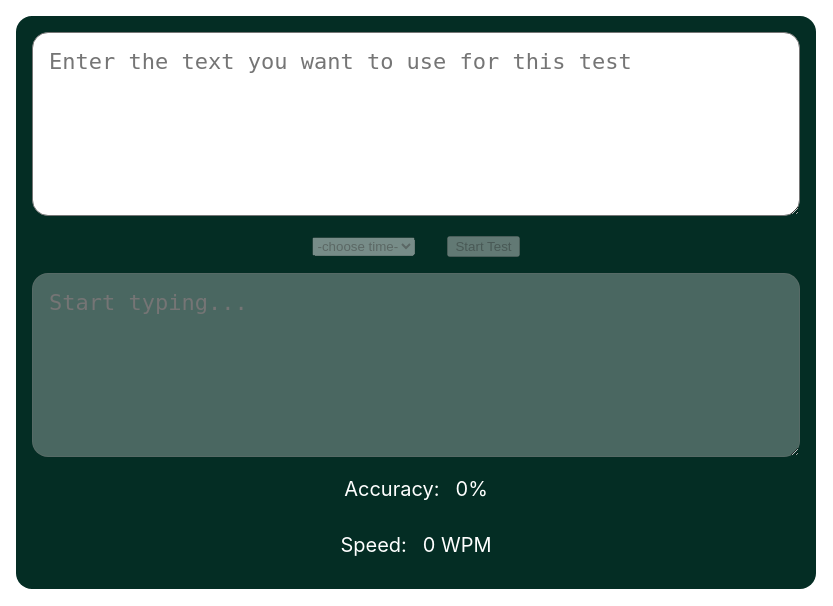
Test: <TypingTutor /> › Start button is enabled if both time and test content are provided
In the text box with placeholder "Enter the text you want to use for this test": point(416, 124) [32, 32, 800, 216], type "Kelv typing tutor"
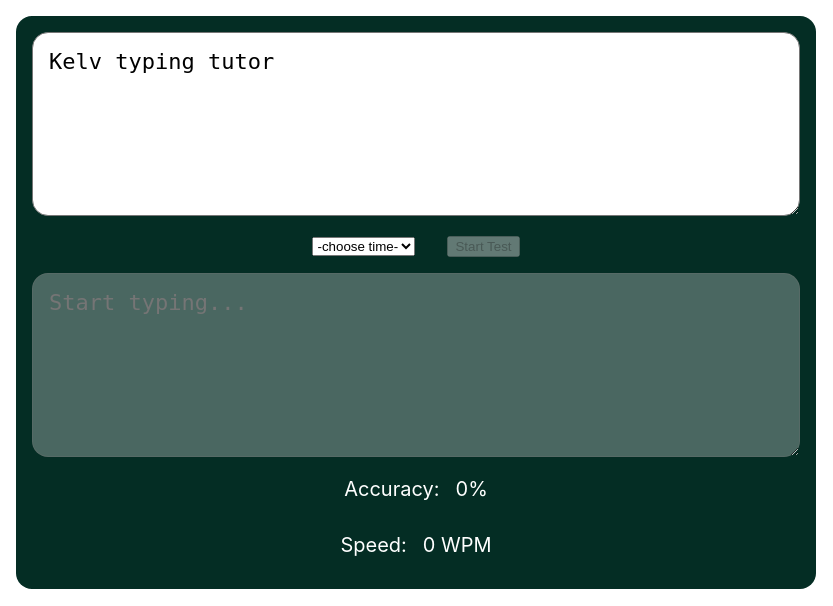
Select "10 secs" in the dropdown with test id "timePicker": point(364, 246) [312, 237, 416, 256]
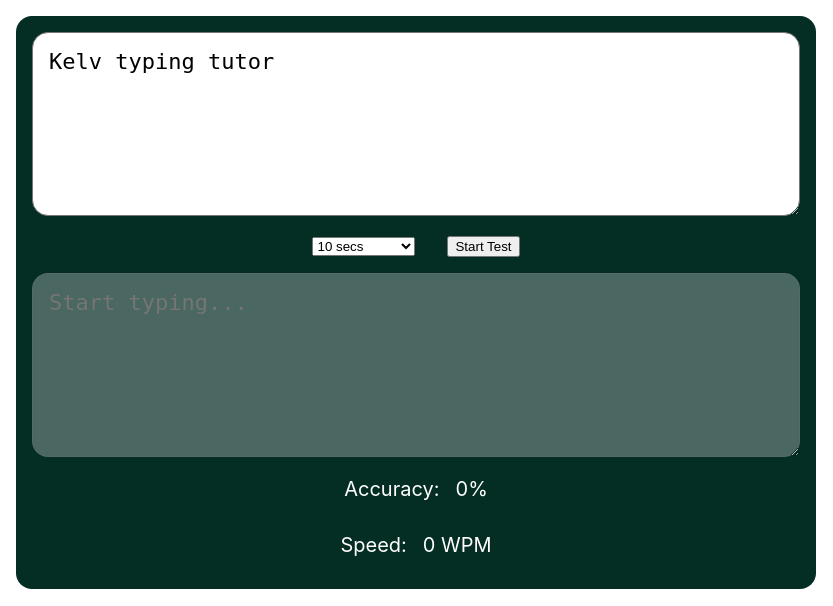
Expected: the button "Start Test" is enabled, [448, 236, 520, 257]
